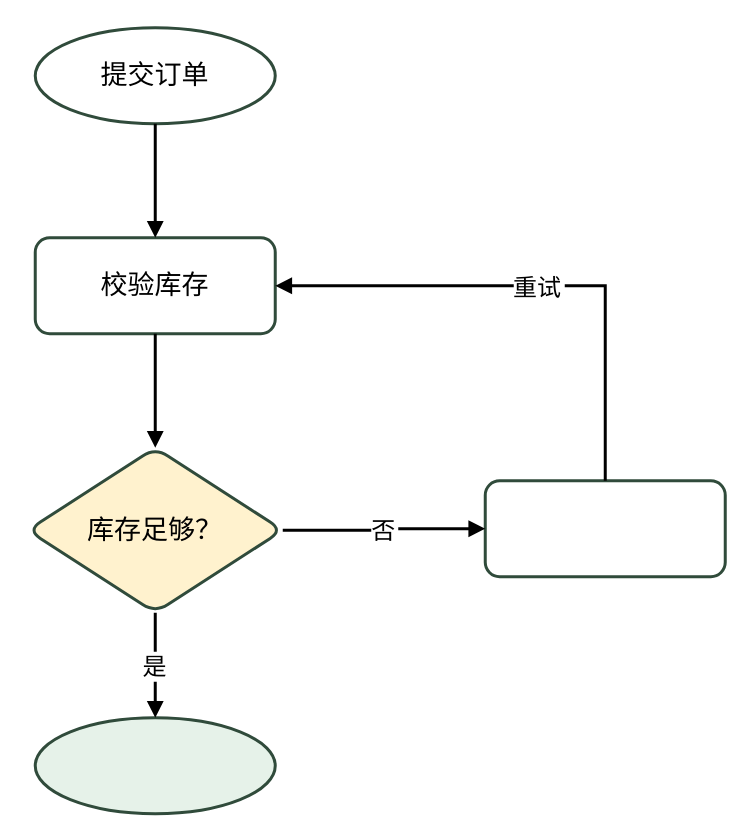
Image size: 752x840. Some labels were removed from this diagram. The shapes that lost their labels are listed below. From the top down, each one's centre as x and y in pixels, then its label:
point 604,528: 通知缺货
point 154,765: 创建支付
